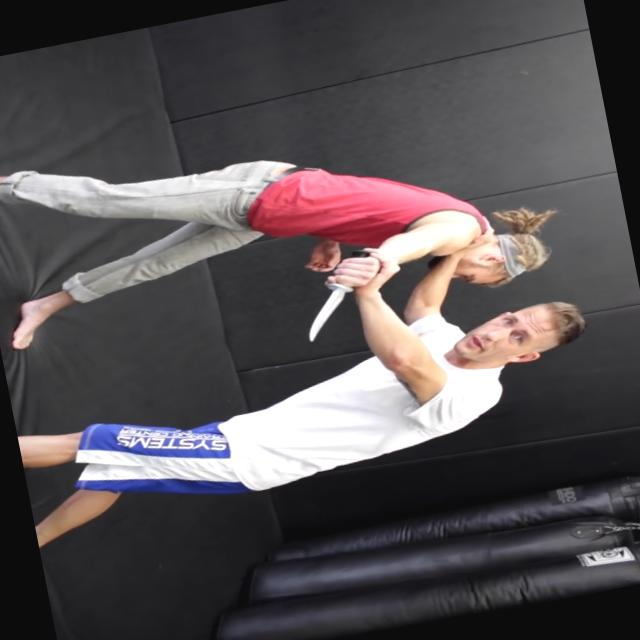knife: (282, 245, 386, 348)
